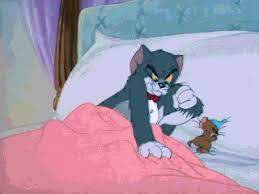jerry: (187, 115, 220, 155)
